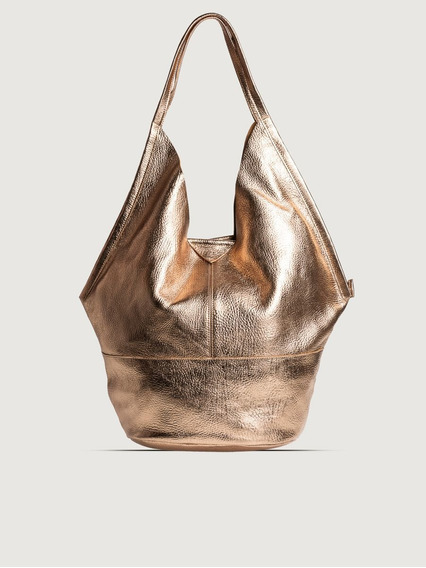cartera: (77, 12, 355, 457)
